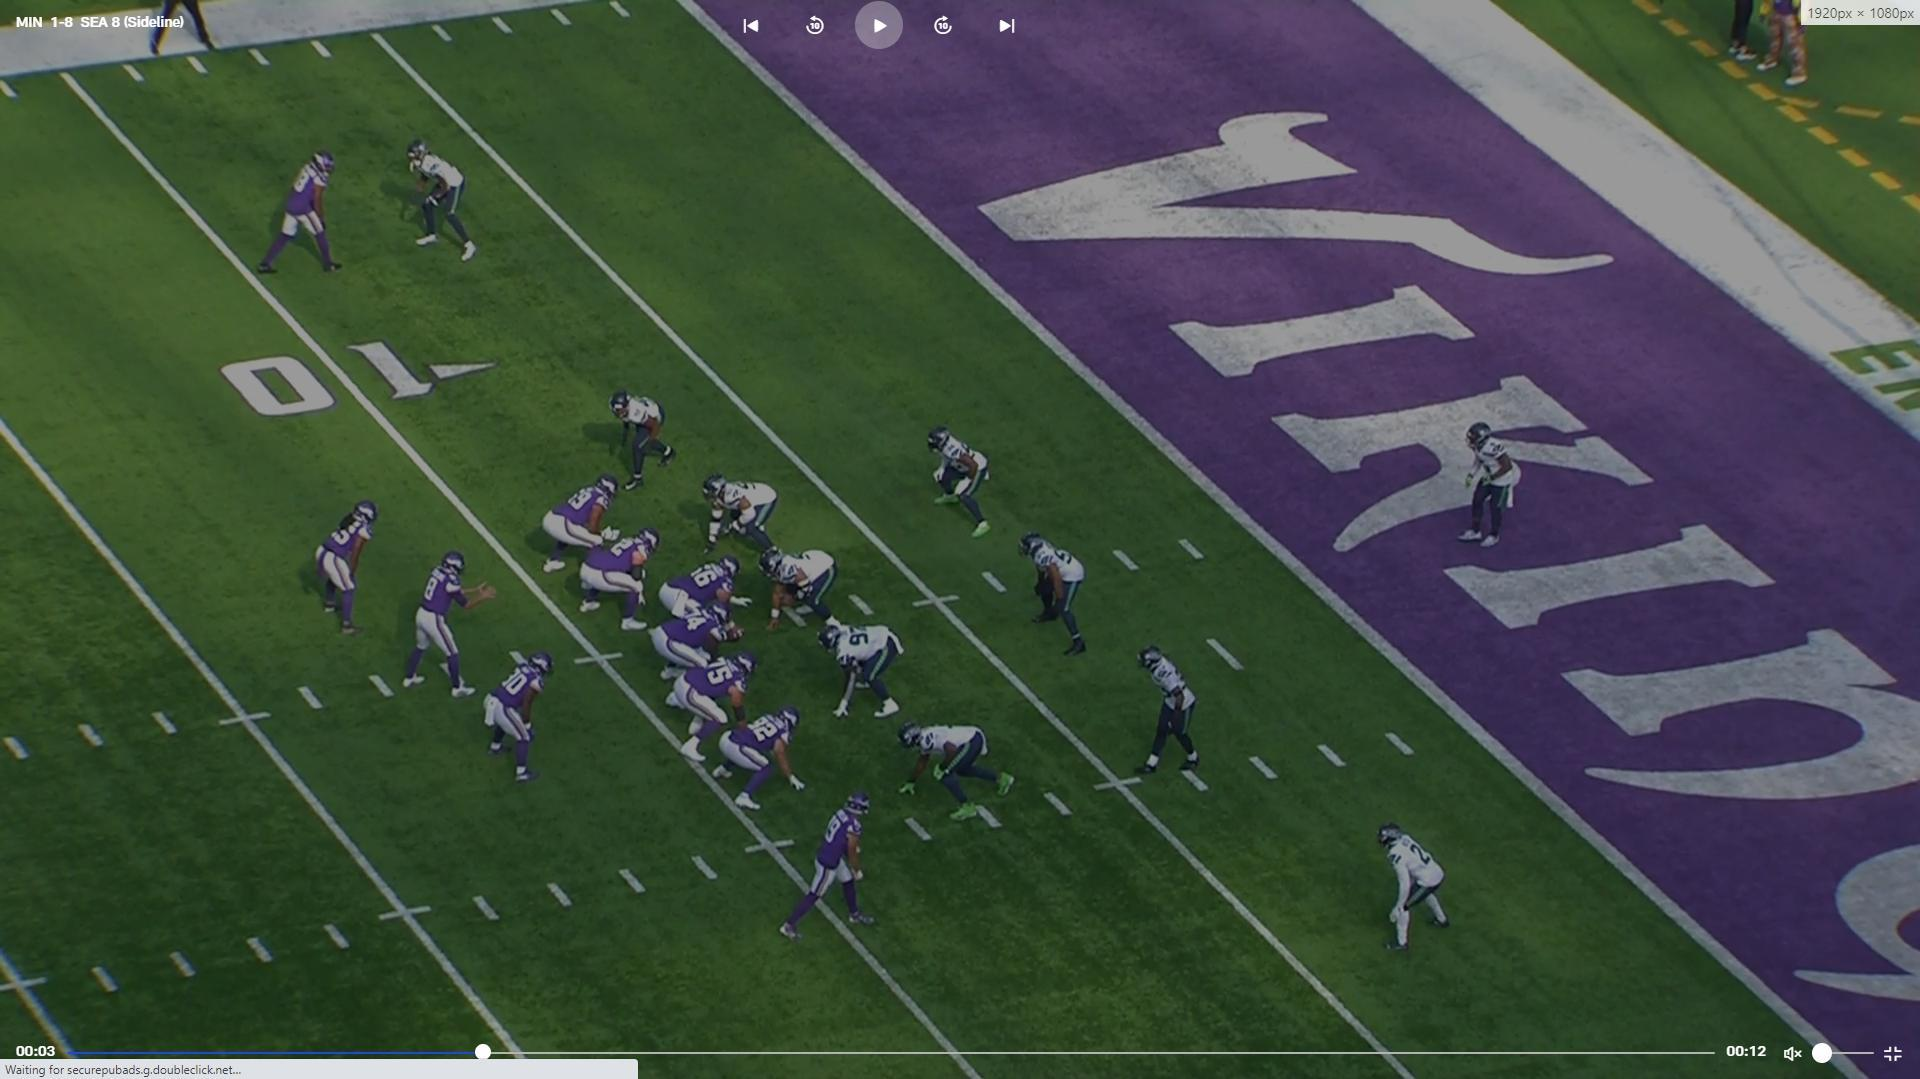defense: (897, 722, 1014, 832), (1125, 642, 1200, 791), (1375, 820, 1452, 960), (404, 136, 480, 265), (1019, 529, 1093, 662), (823, 616, 907, 720), (699, 474, 786, 570), (928, 422, 997, 538), (605, 385, 678, 493), (1460, 419, 1518, 554), (765, 547, 853, 634)
oline: (675, 654, 758, 768), (538, 474, 622, 578), (579, 526, 662, 632), (655, 558, 742, 640), (651, 604, 732, 687)
qb: (401, 543, 488, 700)
ref: (145, 0, 225, 55)
skill: (777, 791, 887, 948), (248, 146, 342, 282), (709, 707, 804, 818), (485, 648, 558, 786), (314, 500, 380, 641)
